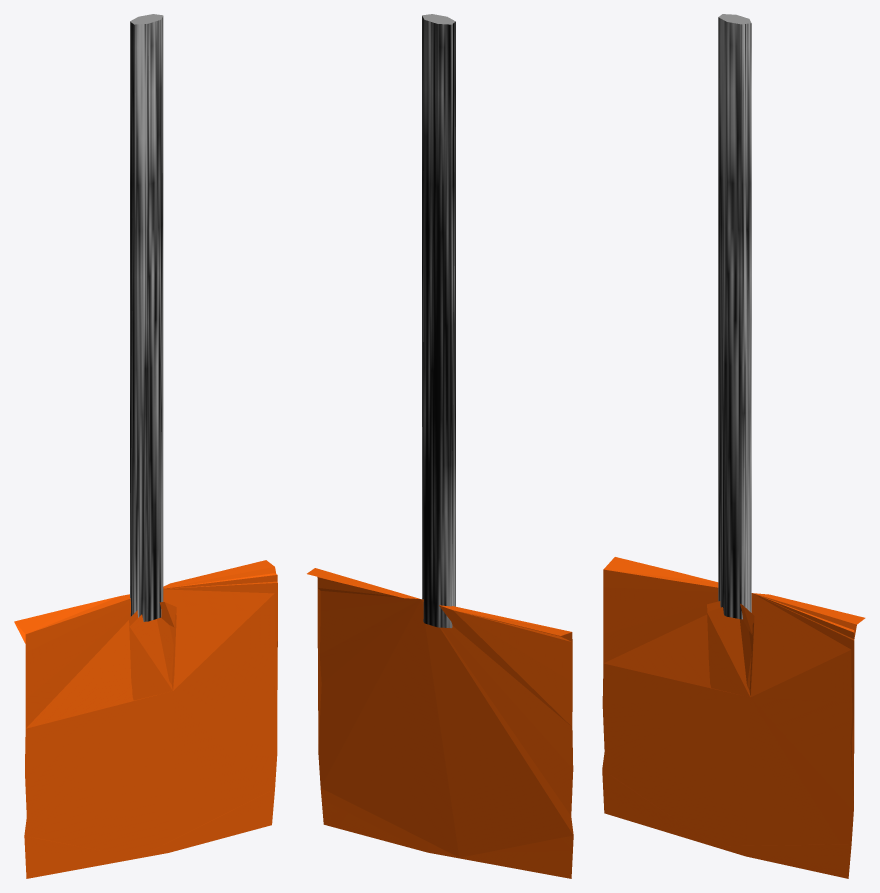
Rendered from snowshovel_wtf.obj.
3 views of the same model, side by side, from view 1: azimuth 30°, elevation 25°; view 2: azimuth 150°, elevation 25°; view 3: azimuth 330°, elevation 25° (orthographic).
Visible parts, largest first — view 1: group1, group2; view 2: group1, group2; view 3: group1, group2.
Part boxes in pixels (<box>): group1: <box>14,560,277,878</box>; group2: <box>130,14,163,621</box>; group1: <box>307,568,573,878</box>; group2: <box>422,14,455,628</box>; group1: <box>602,557,865,878</box>; group2: <box>718,14,751,619</box>.
Bounding box in the file's own units: 210 × 660 × 16.72.
